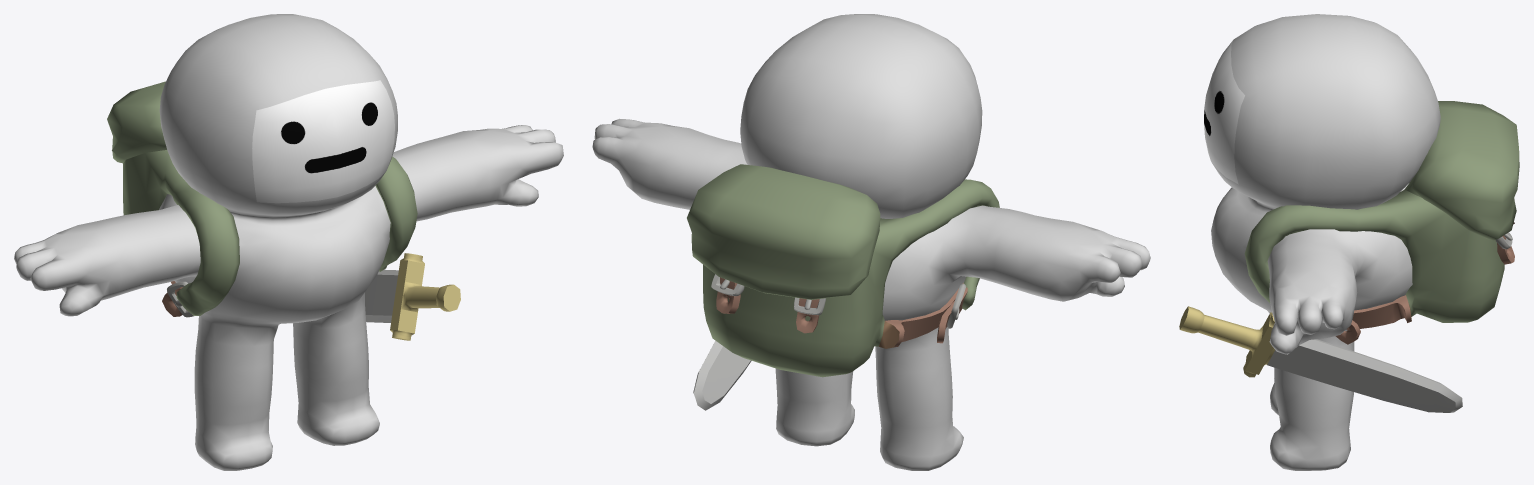
File: Hero.glb
The picture shows the model from 3 angles, left to right: view 1: azimuth 30°, elevation 25°; view 2: azimuth 150°, elevation 25°; view 3: azimuth 270°, elevation 25°; orthographic projection. The views are drawn at different scales.
Visible parts, largest first — view 1: Cube9, Cube17, Cube19; view 2: Cube9, Cube17, Cube19; view 3: Cube9, Cube17, Cube19.
Part boxes in pixels (x1,y1,x2,y2): Cube9: [14, 14, 563, 470]; Cube17: [107, 81, 417, 317]; Cube19: [365, 253, 460, 340]; Cube9: [592, 14, 1150, 470]; Cube17: [687, 164, 999, 377]; Cube19: [693, 340, 751, 410]; Cube9: [1204, 14, 1440, 470]; Cube17: [1244, 101, 1519, 344]; Cube19: [1179, 306, 1462, 412].
Size of the model in its own units: 2.93 by 2.16 by 1.63.
2 materials, 1 textured.
